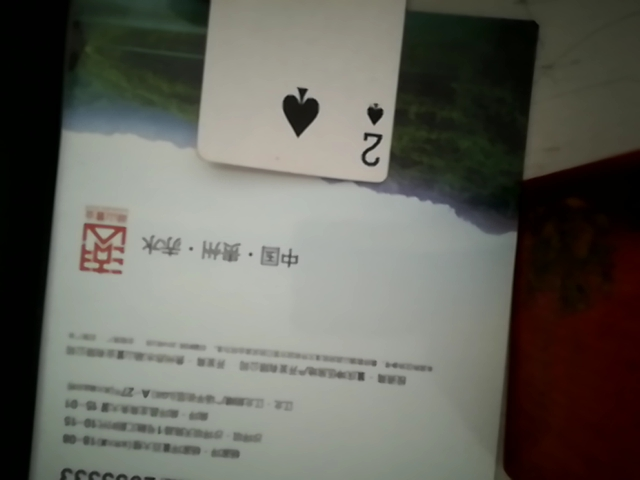ht 2: (198, 2, 417, 198)
